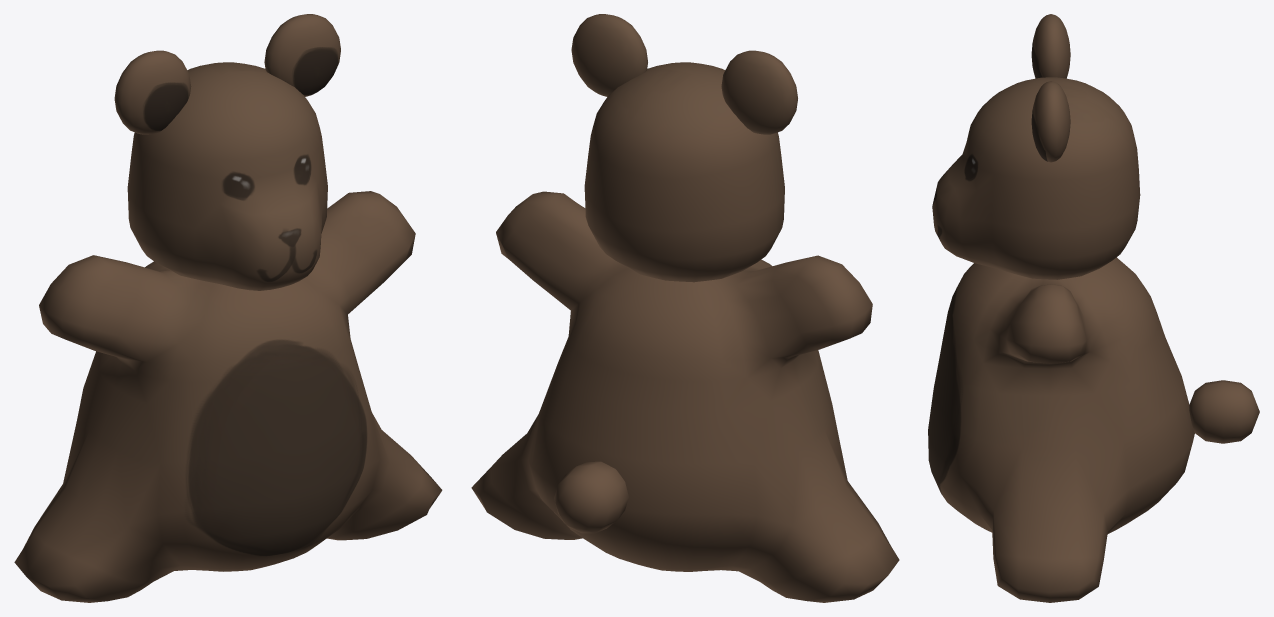
Rendered from teddyBearEnemy.FBX.
3 renders of one model, left to right at view 1: azimuth 30°, elevation 25°; view 2: azimuth 150°, elevation 25°; view 3: azimuth 270°, elevation 25°, orthographic. The views are drawn at different scales.
Parts seen in each view (by area): view 1: Sphere002; view 2: Sphere002; view 3: Sphere002.
Boxes of the visible parts, bbox=[...] form: Sphere002: bbox=[14, 14, 442, 602]; Sphere002: bbox=[471, 14, 899, 602]; Sphere002: bbox=[928, 14, 1259, 602].
Bounding box in the file's own units: 101 × 125 × 77.91.
Materials: 1 (1 with a texture image).
